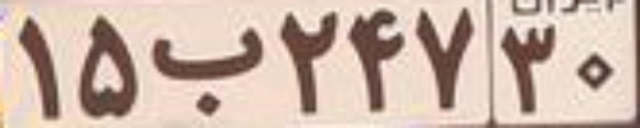0: (569, 50, 617, 91)
1: (14, 15, 59, 120)
2: (277, 9, 340, 115)
3: (498, 25, 555, 114)
4: (346, 10, 409, 114)
5: (75, 14, 140, 116)
7: (415, 5, 481, 112)
be: (147, 28, 264, 116)
